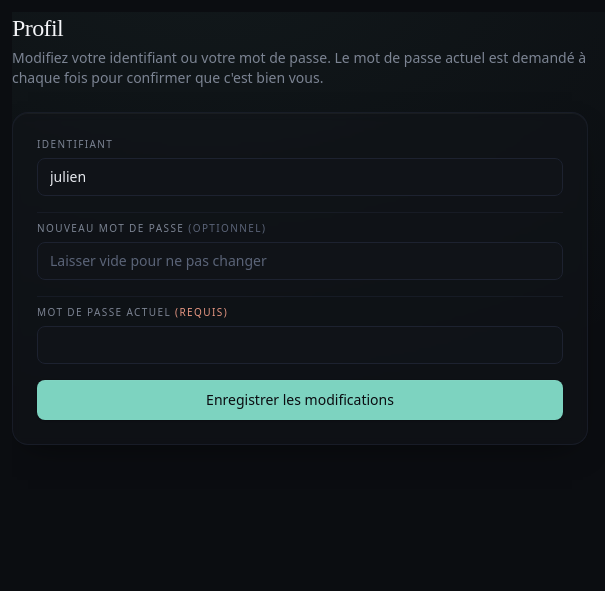
Test: Profile › rejects password change when the new password is too short
# Order: new password, confirm (only appears once new is non-empty), current password.
Type "short" into the password field with placeholder "Laisser vide pour ne pas changer".
click(300, 261); type("short")  # box top-left (37, 242), bottom-right (563, 280)
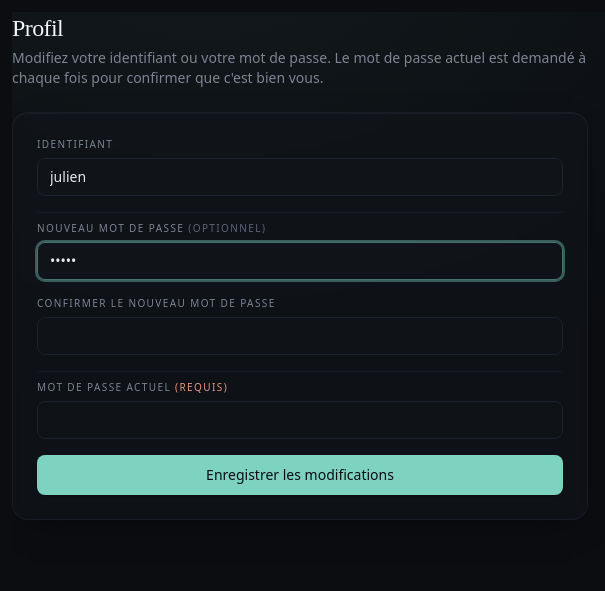
# After typing, confirm becomes visible.
Type "short" into the password field below "Confirmer le nouveau mot de passe".
click(300, 336); type("short")  # box top-left (37, 317), bottom-right (563, 355)
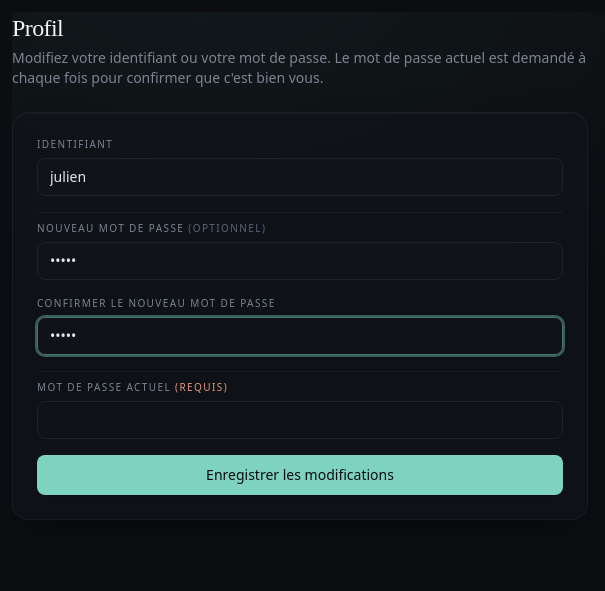
Type "currentpwd" into the password field below "(requis)".
click(300, 420); type("currentpwd")  # box top-left (37, 401), bottom-right (563, 439)
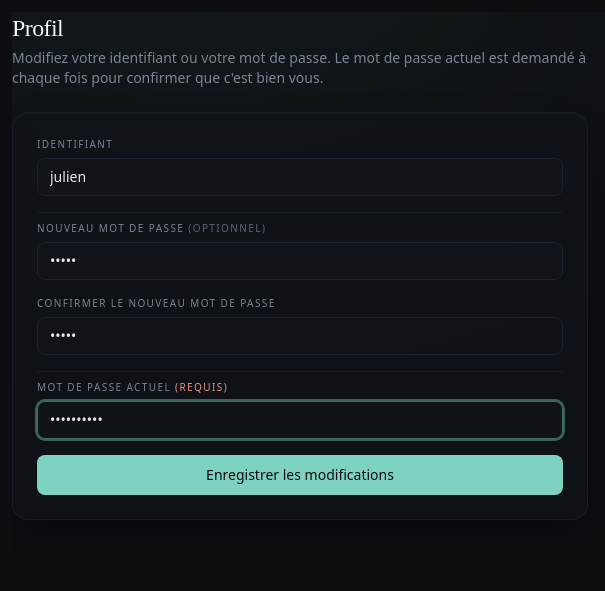
Click the button "Enregistrer les modifications".
click(300, 475)  # box top-left (37, 455), bottom-right (563, 495)
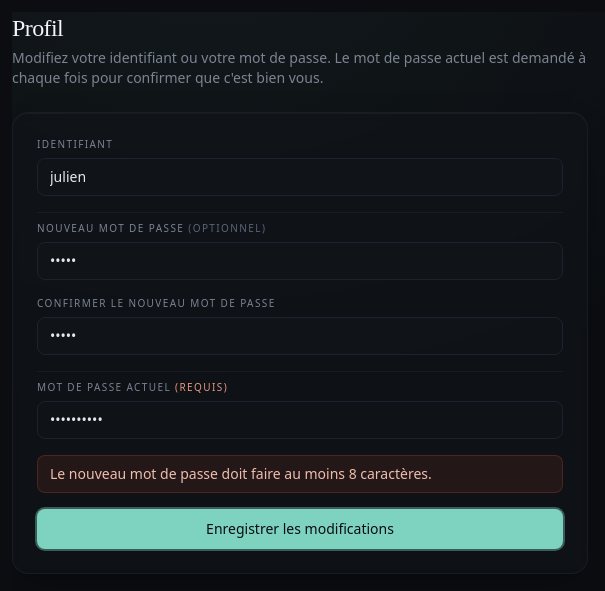
Expected: the text "Le nouveau mot de passe doit faire au moins 8 caractères." is shown, top-left (37, 455), bottom-right (563, 493)
